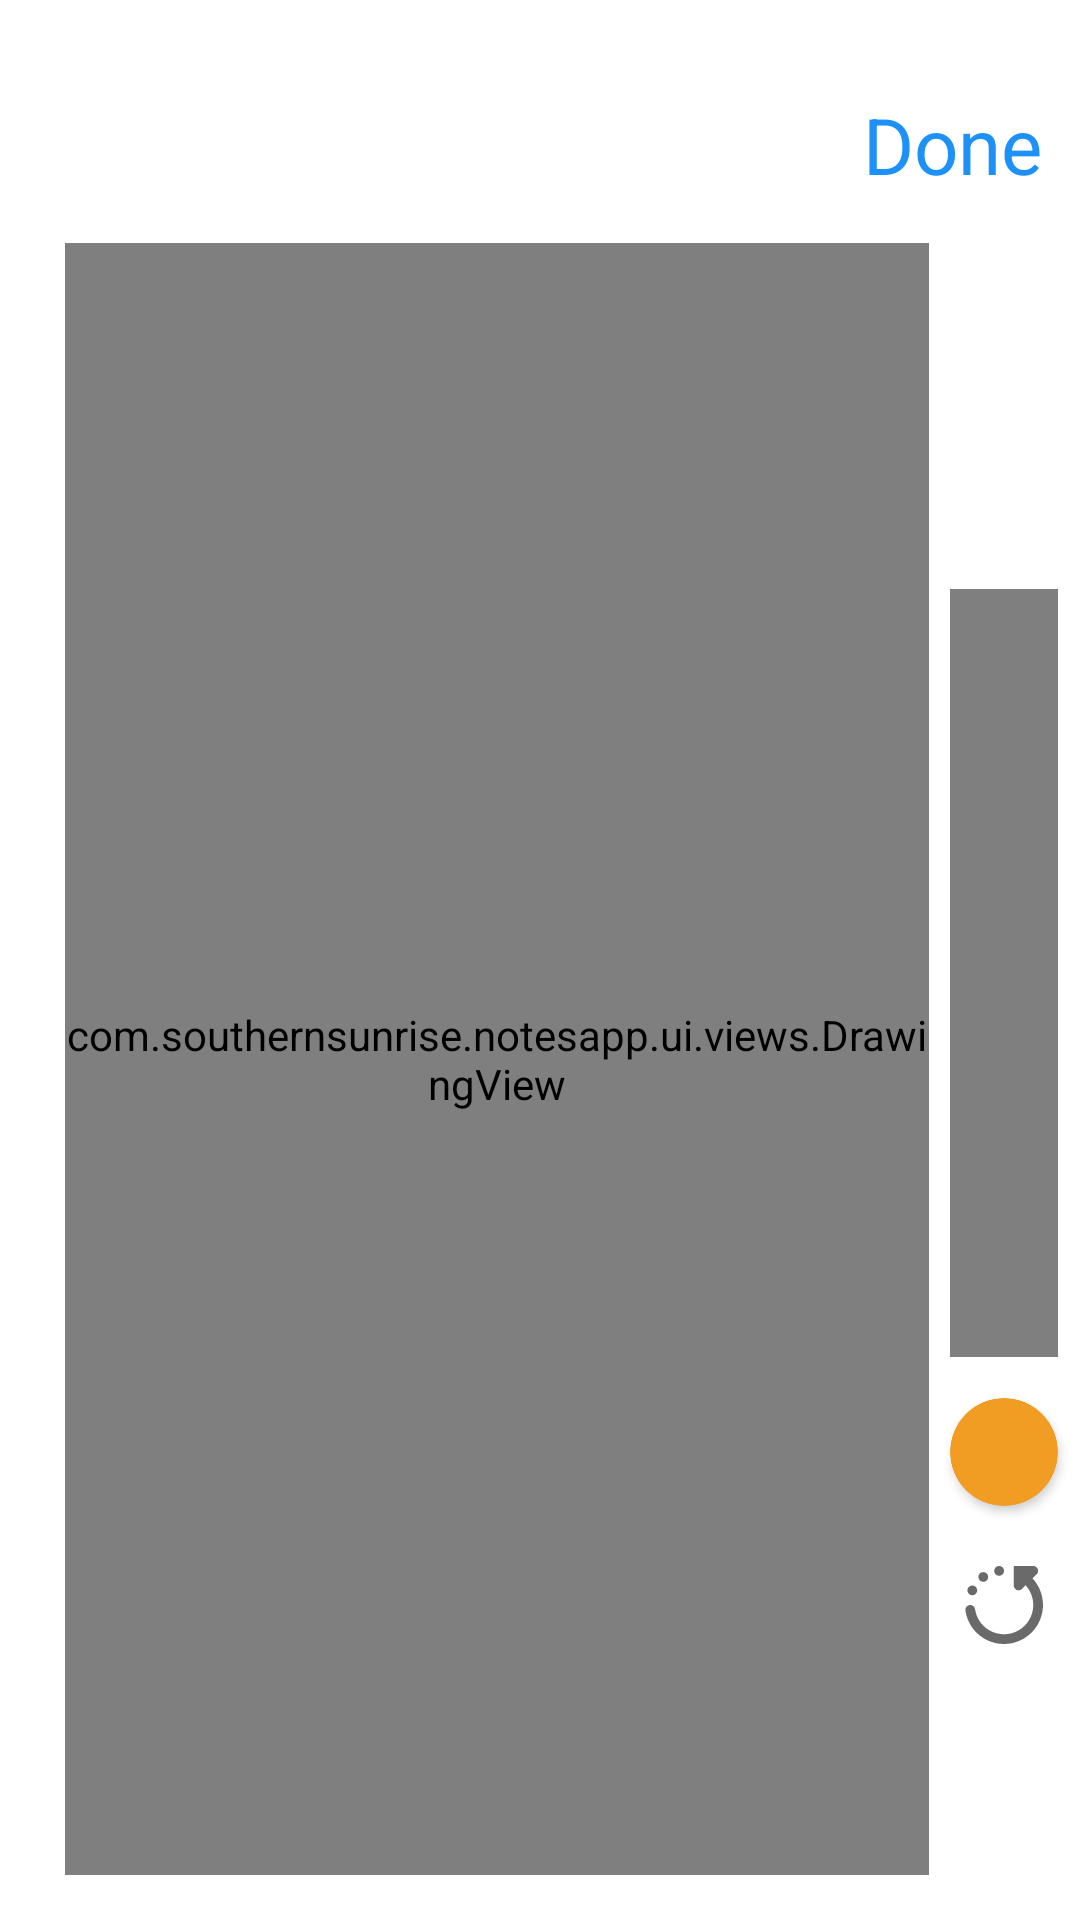

Screen size 1080×1920. Icon name, then its center in pixels as point (x, y):
clear all: point (1004, 1605)
